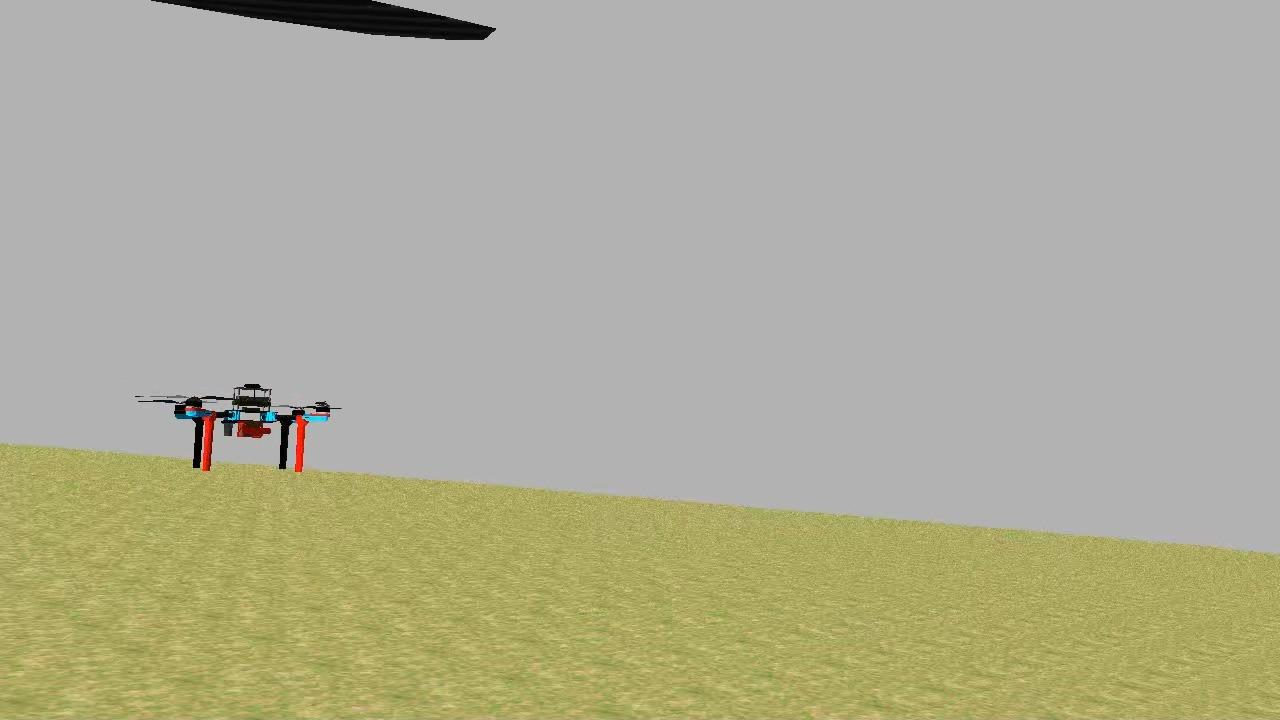UAV: (169, 376, 334, 480)
